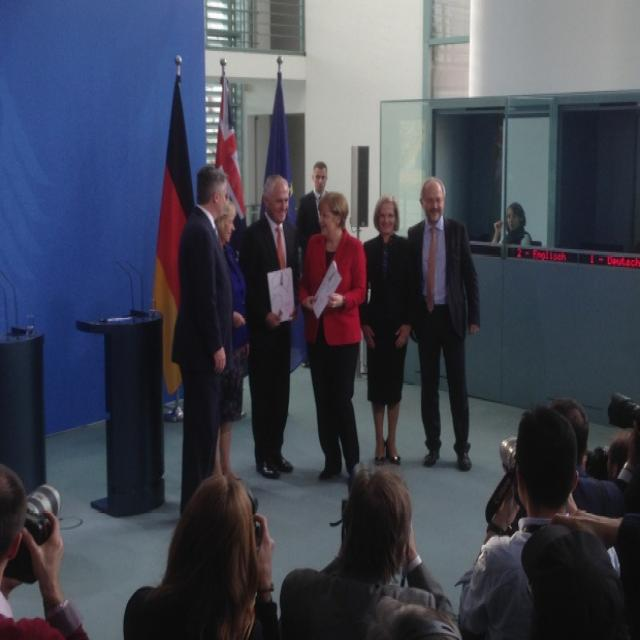body: (452, 402, 626, 640), (277, 462, 463, 640), (122, 473, 280, 640), (403, 172, 483, 476), (172, 162, 236, 519), (235, 172, 308, 483), (295, 189, 371, 487), (356, 193, 415, 469), (0, 464, 89, 640), (213, 190, 252, 493), (550, 392, 635, 530), (587, 379, 640, 593), (294, 161, 332, 277), (490, 200, 534, 247)
